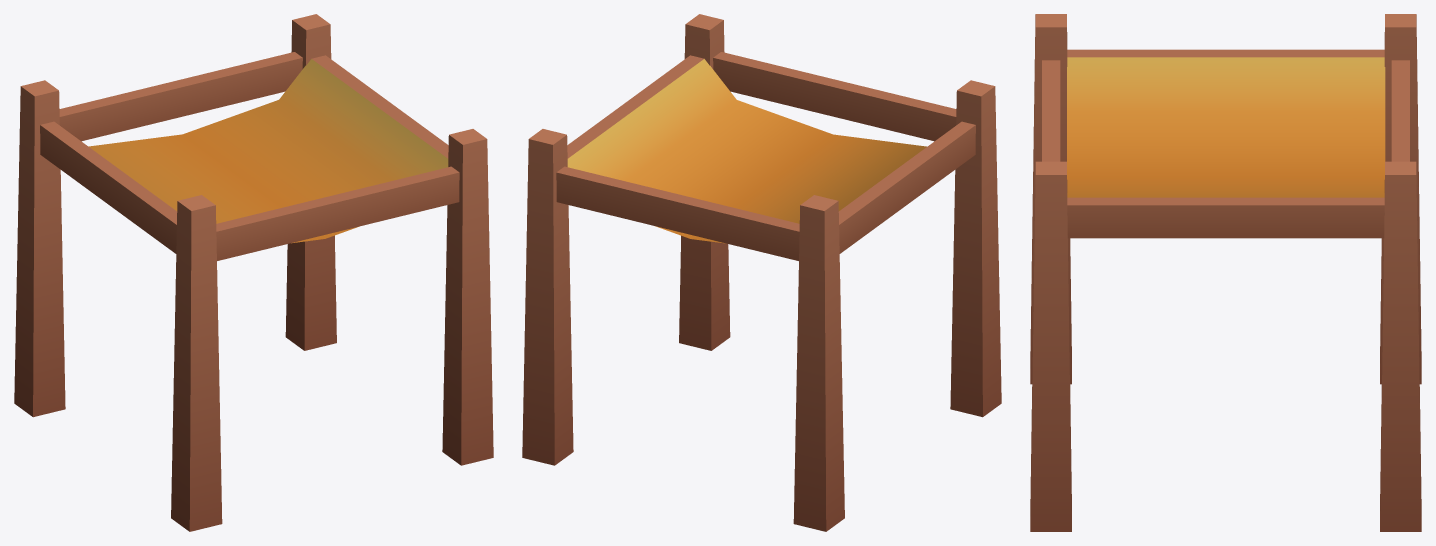
File: KS_structure-canvas.glb
The picture shows the model from 3 angles, left to right: view 1: azimuth 30°, elevation 25°; view 2: azimuth 150°, elevation 25°; view 3: azimuth 270°, elevation 25°; orthographic projection. The views are drawn at different scales.
Visible parts, largest first — view 1: structure-canvas; view 2: structure-canvas; view 3: structure-canvas.
Part boxes in pixels (bbox=[...]): structure-canvas: bbox=[14, 14, 493, 531]; structure-canvas: bbox=[522, 14, 1001, 531]; structure-canvas: bbox=[1030, 14, 1421, 531].
Bounding box in the file's own units: 0.5 × 0.5 × 0.5.
